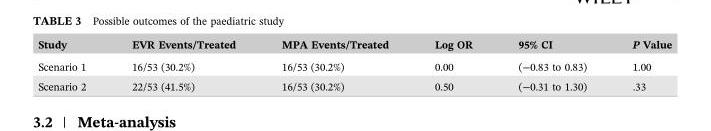table: (37, 37, 671, 92)
table column: (258, 37, 411, 92), (108, 37, 258, 92), (494, 37, 608, 92), (411, 37, 494, 92), (37, 37, 108, 92), (608, 37, 671, 92)
table column header: (37, 37, 671, 55)
table row: (37, 55, 671, 76), (37, 37, 671, 55), (37, 76, 671, 92)
